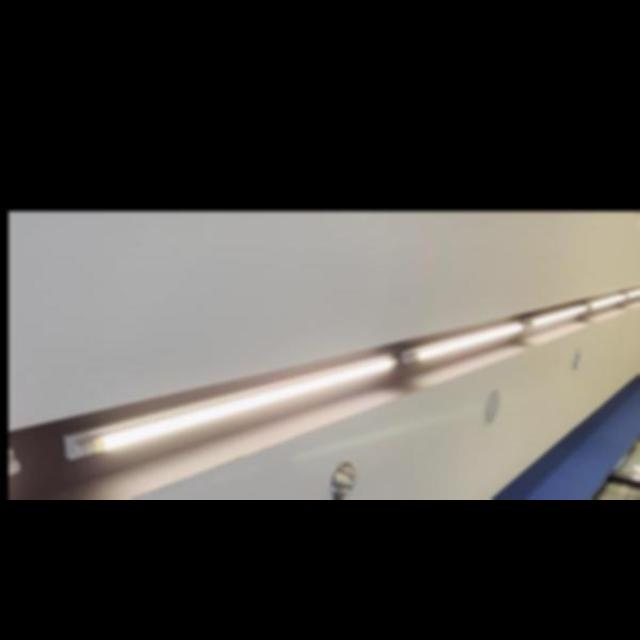Straight-Tube-Fluorescent-Lamp: (60, 347, 402, 475), (396, 316, 524, 370), (528, 302, 592, 330), (583, 294, 627, 308), (630, 286, 640, 300)
